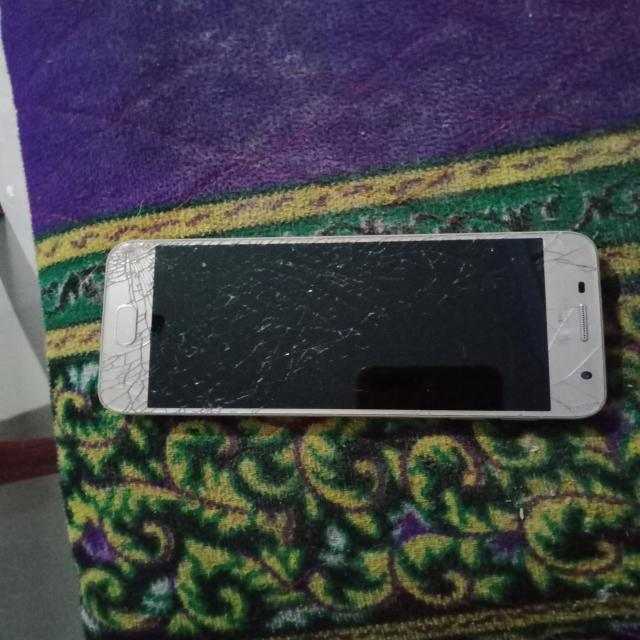mobile: (41, 164, 609, 476)
